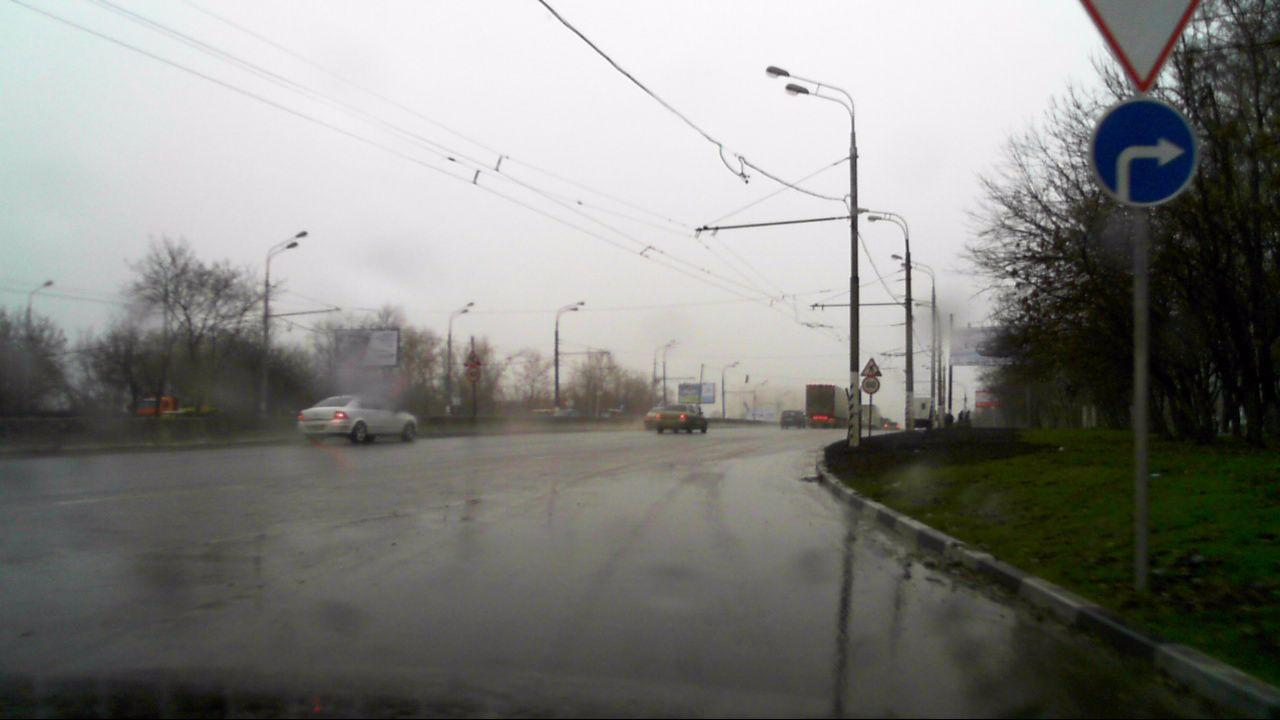1_25: (860, 356, 883, 377)
2_4: (1079, 0, 1200, 94)
3_24: (862, 377, 880, 394)
4_1_2: (1094, 98, 1197, 204)
